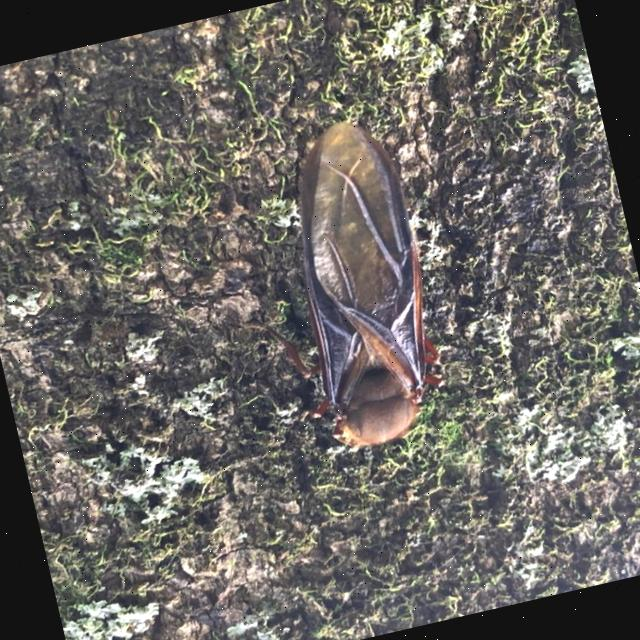Alive-Female-Alate: (197, 109, 463, 472)
